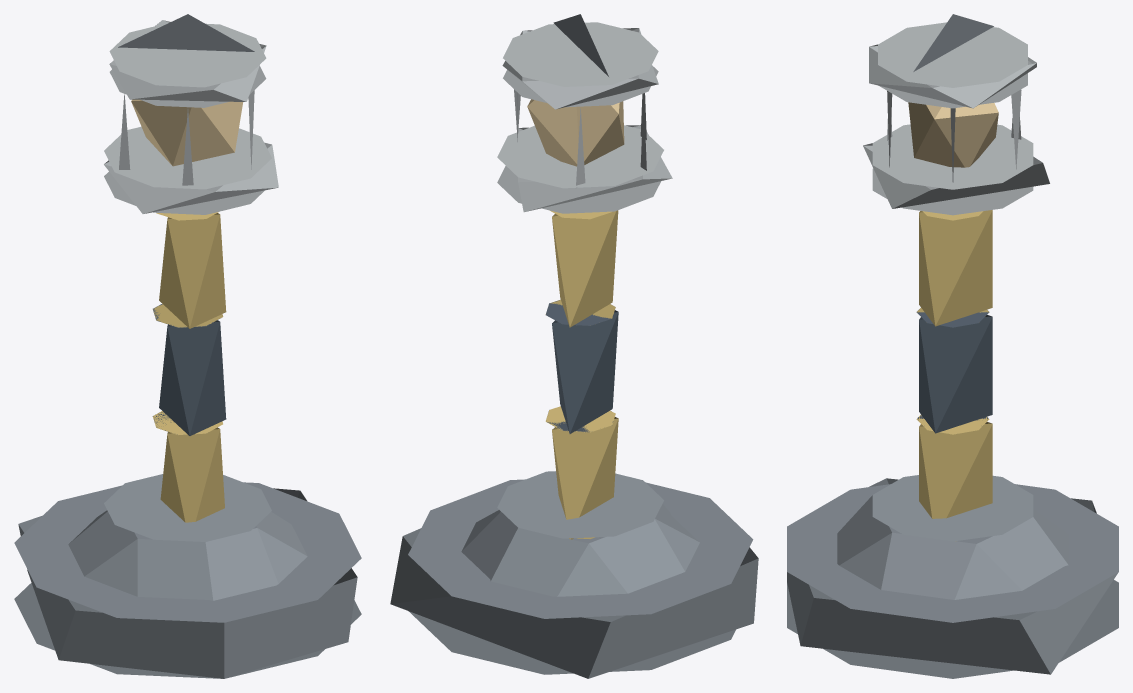
3 views of the same model, side by side, from view 1: azimuth 30°, elevation 25°; view 2: azimuth 150°, elevation 25°; view 3: azimuth 270°, elevation 25° (orthographic).
Parts seen in each view (by area): view 1: sea_beacon.001; view 2: sea_beacon.001; view 3: sea_beacon.001.
Boxes of the visible parts, <box> form: sea_beacon.001: <box>14,14,361,678</box>; sea_beacon.001: <box>390,14,758,678</box>; sea_beacon.001: <box>787,14,1118,678</box>.
Size of the model in its own units: 1.24 by 2.32 by 1.18.
